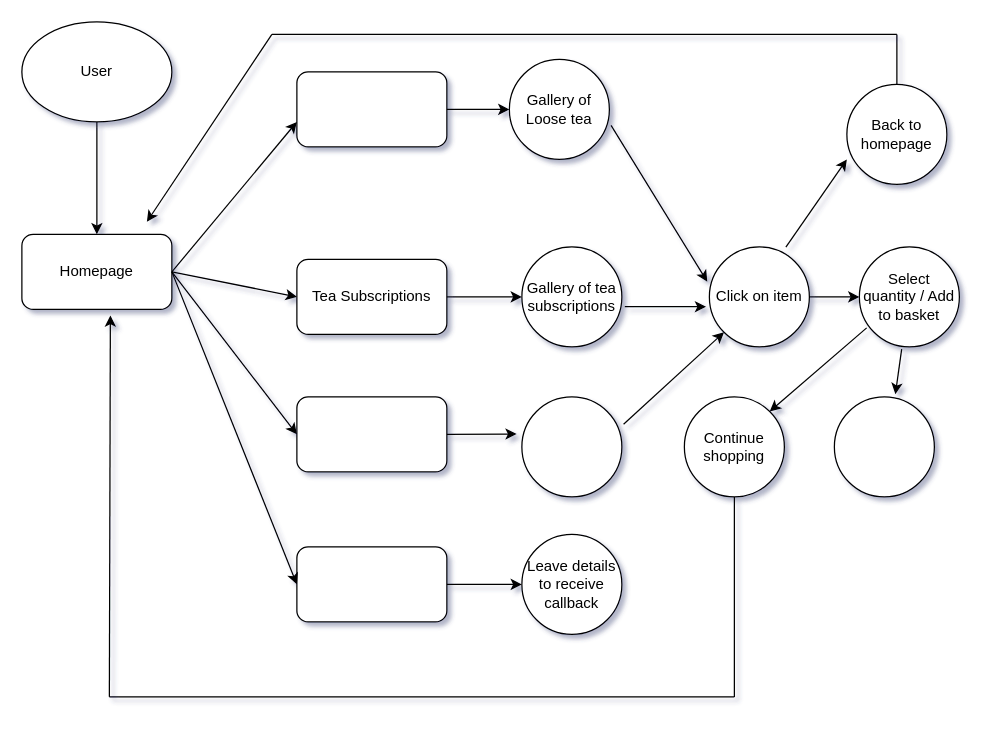
This 989x736 diagram has some shape labels left out. The box of each missing label's shape, as (x1, y1, x2, y2) in pixels:
Checkout: (833, 396, 934, 497)
Commercial: (296, 546, 447, 622)
Gallery of teaware: (521, 396, 622, 497)
Loose Tea: (296, 71, 447, 147)
Teaware: (296, 396, 447, 472)
